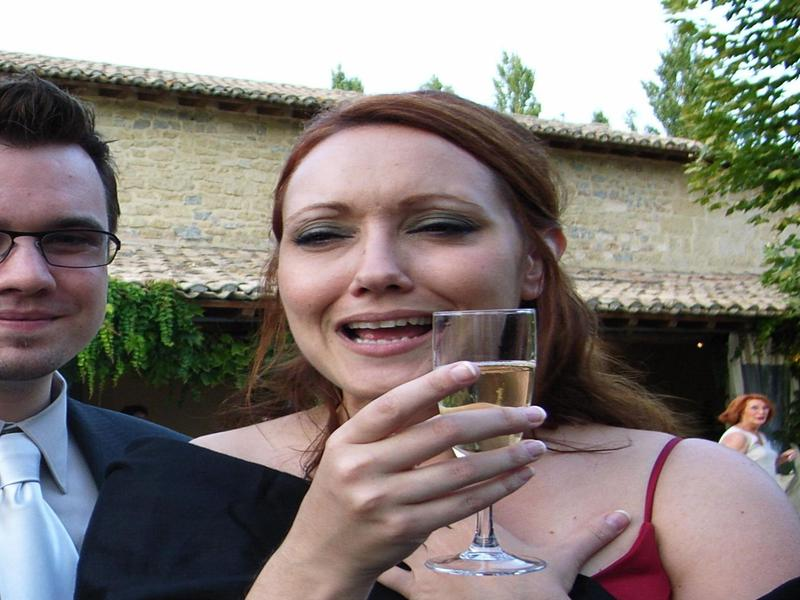person: (239, 87, 797, 600), (1, 73, 354, 600)
